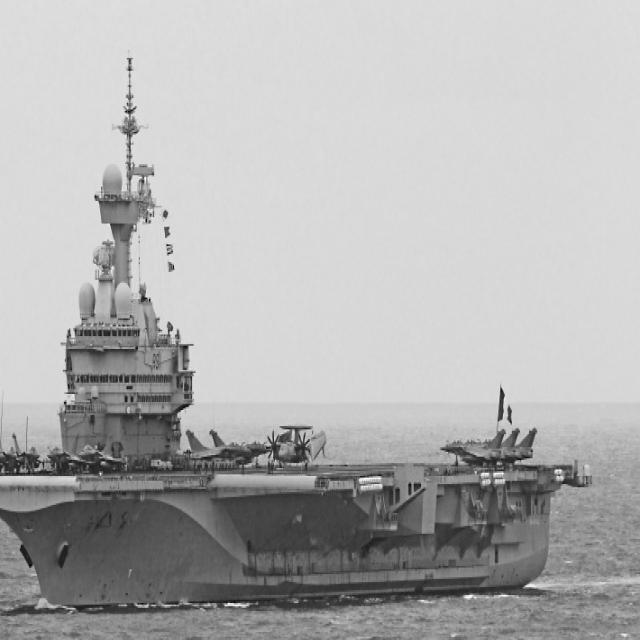Portanaves: (1, 48, 594, 612)
